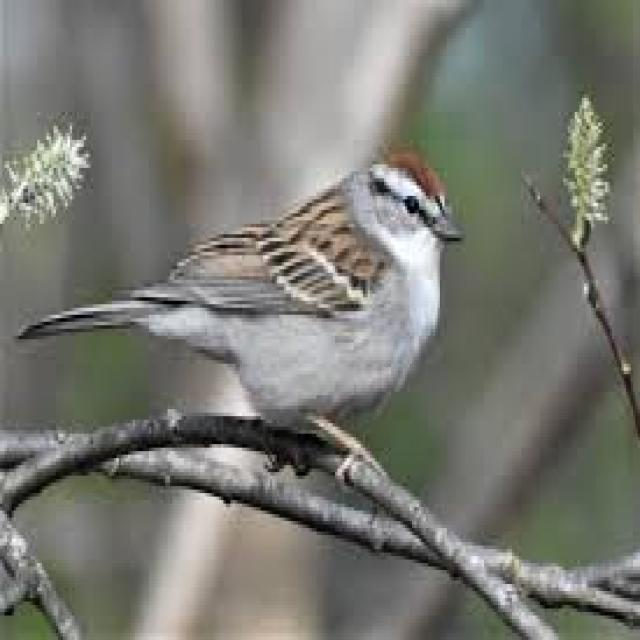Sparrow: (5, 138, 470, 454)
